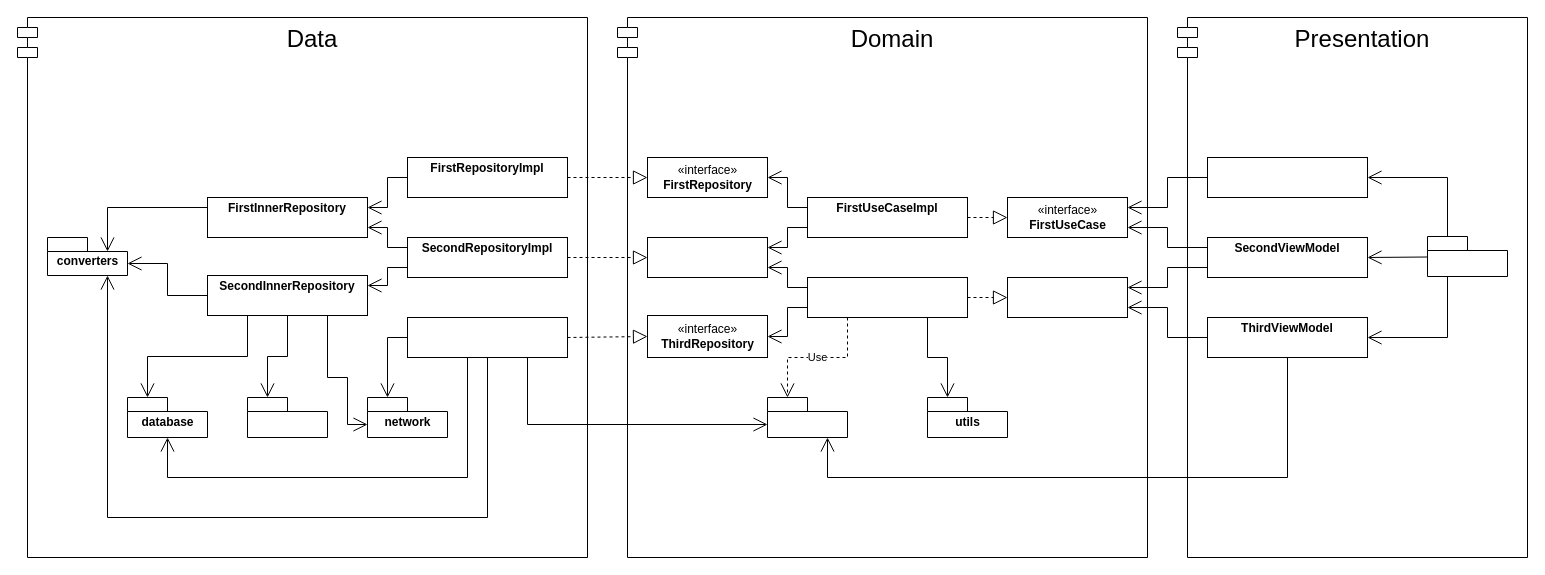
Some shapes in this 1545 by 575 pixel diagram are drawn without their labels. The shapes that lost their labels are listed below. From the top down, each one's centre as x and y in pixels, then its label:
At point (1287, 177): "FirstViewModel".
At point (707, 257): "«interface» SecondRepository".
At point (1467, 256): "UI".
At point (887, 297): "SecondUseCaseImpl".
At point (1067, 297): "«interface» SecondUseCase".
At point (487, 337): "ThirdRepositoryImpl".
At point (287, 417): "preferences".
At point (807, 417): "entities".
